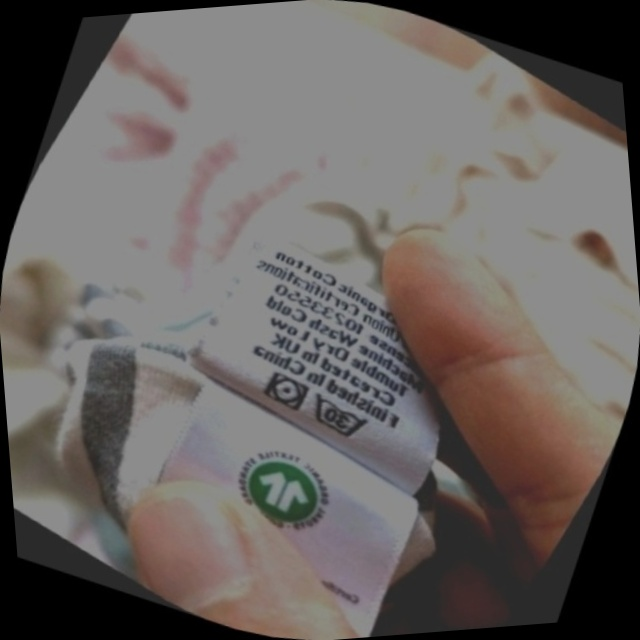30C: (288, 375, 388, 461)
tumble_dry_low: (248, 355, 324, 427)
